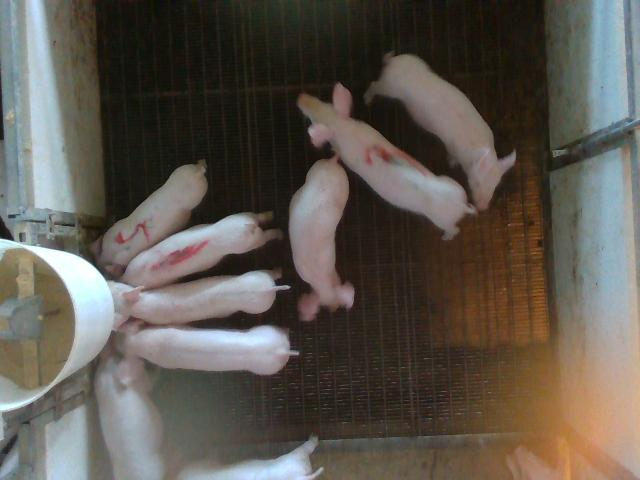pig-1: (121, 213, 281, 288)
pig-3: (299, 84, 475, 239)
pig-5: (92, 160, 208, 278)
